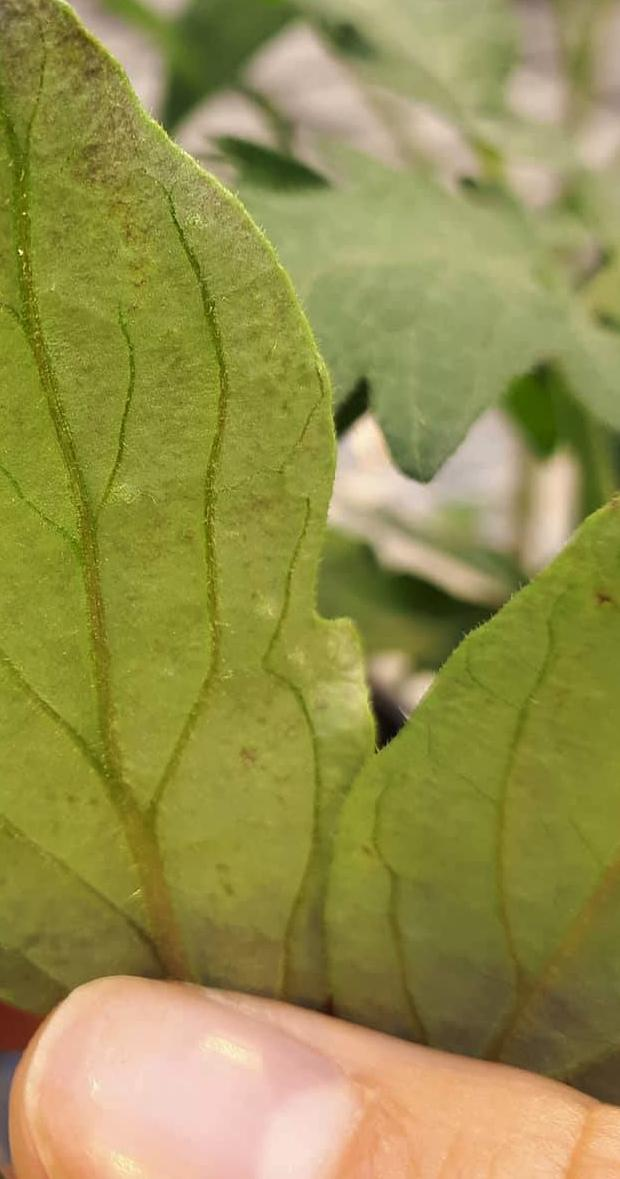Tomato mold leaf: (0, 0, 403, 1106)
